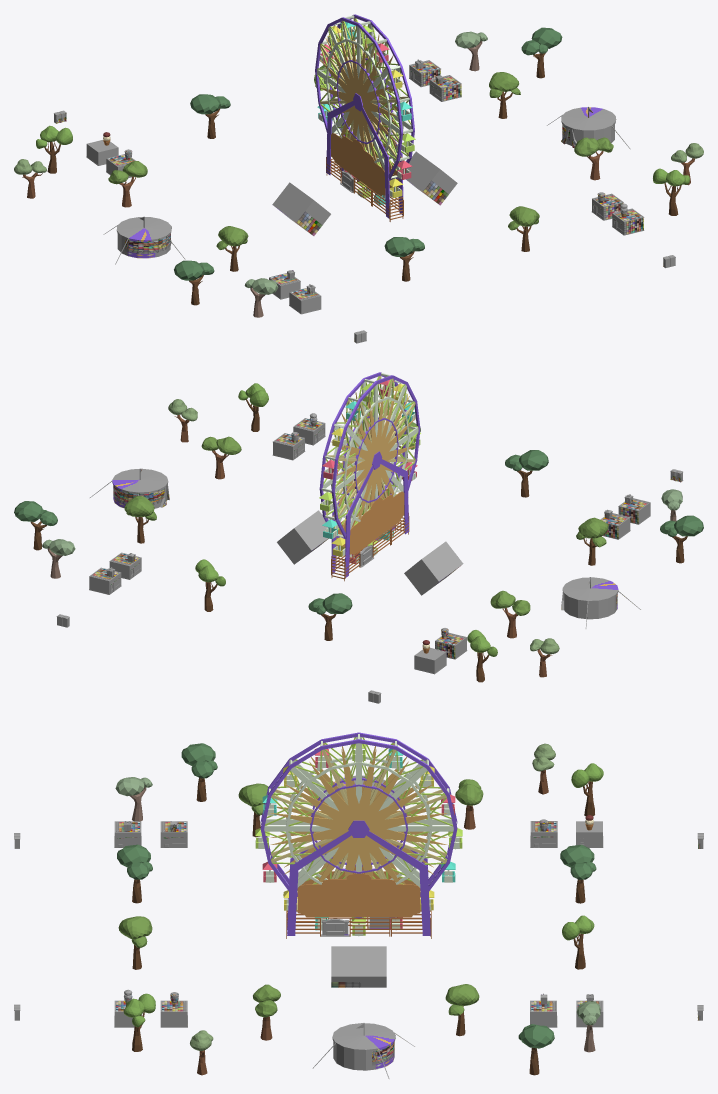
The model's file is Buildings.fbx.
3 views of the same model, one above another, from view 1: azimuth 30°, elevation 25°; view 2: azimuth 150°, elevation 25°; view 3: azimuth 270°, elevation 25° (orthographic). The views are drawn at different scales.
Visible parts, largest first — view 1: B1, B2, B12, B13, B3, B4, B19, B17, B5, B15, B9, B20 (+15 smaller); view 2: B1, B2, B12, B13, B3, B4, B19, B5, B17, B15, B7, B6 (+16 smaller); view 3: B1, B2, B13, B4, B17, B5, B15, B20, B16, B19, B21, B22 (+14 smaller).
Part boxes in pixels (bbox=[...]): B1: bbox=[314, 14, 415, 205]; B2: bbox=[326, 101, 403, 221]; B12: bbox=[103, 216, 185, 264]; B13: bbox=[547, 106, 630, 149]; B3: bbox=[272, 182, 330, 235]; B4: bbox=[406, 151, 457, 205]; B19: bbox=[521, 27, 562, 78]; B17: bbox=[190, 94, 230, 138]; B5: bbox=[174, 260, 214, 305]; B15: bbox=[384, 237, 424, 281]; B9: bbox=[36, 125, 72, 173]; B20: bbox=[489, 72, 520, 118]; B1: bbox=[319, 372, 420, 563]; B2: bbox=[331, 459, 409, 581]; B12: bbox=[561, 577, 640, 628]; B13: bbox=[90, 468, 169, 517]; B3: bbox=[404, 541, 463, 595]; B4: bbox=[277, 510, 328, 564]; B19: bbox=[14, 501, 57, 550]; B5: bbox=[660, 515, 703, 563]; B17: bbox=[308, 593, 352, 640]; B15: bbox=[505, 450, 548, 497]; B7: bbox=[490, 590, 530, 638]; B6: bbox=[576, 517, 608, 565]; B1: bbox=[255, 732, 462, 936]; B2: bbox=[286, 831, 431, 938]; B13: bbox=[312, 1023, 414, 1079]; B4: bbox=[331, 946, 386, 987]; B17: bbox=[560, 844, 596, 903]; B5: bbox=[181, 743, 217, 801]; B15: bbox=[117, 844, 152, 903]; B20: bbox=[445, 984, 479, 1036]; B16: bbox=[118, 916, 152, 969]; B19: bbox=[518, 1024, 554, 1075]; B21: bbox=[253, 984, 280, 1040]; B22: bbox=[123, 993, 155, 1051].
Size of what is drawn, in the model's own units: 1543 by 517 by 1494.
